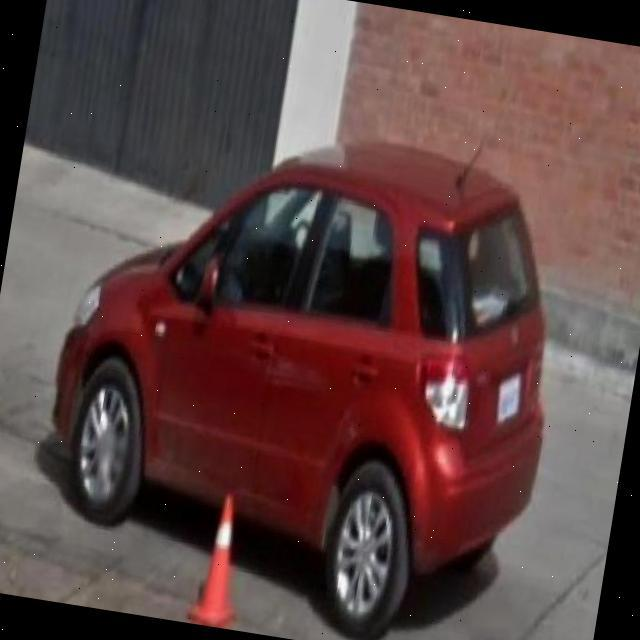car: (57, 139, 550, 635)
